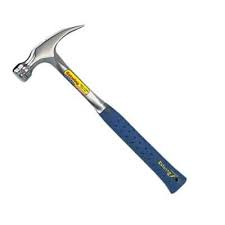hammer: (12, 23, 188, 195)
